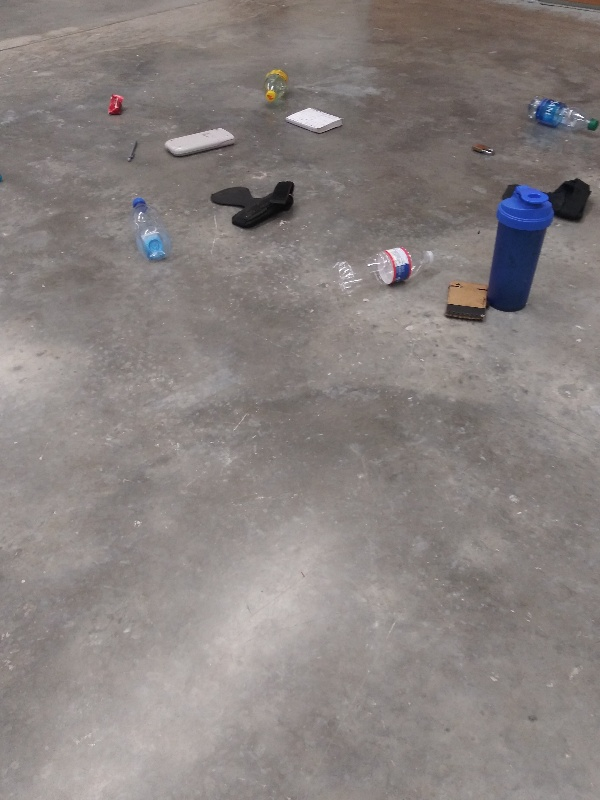bottle: (331, 245, 439, 297), (522, 95, 600, 136), (128, 195, 174, 263), (258, 65, 292, 109)
